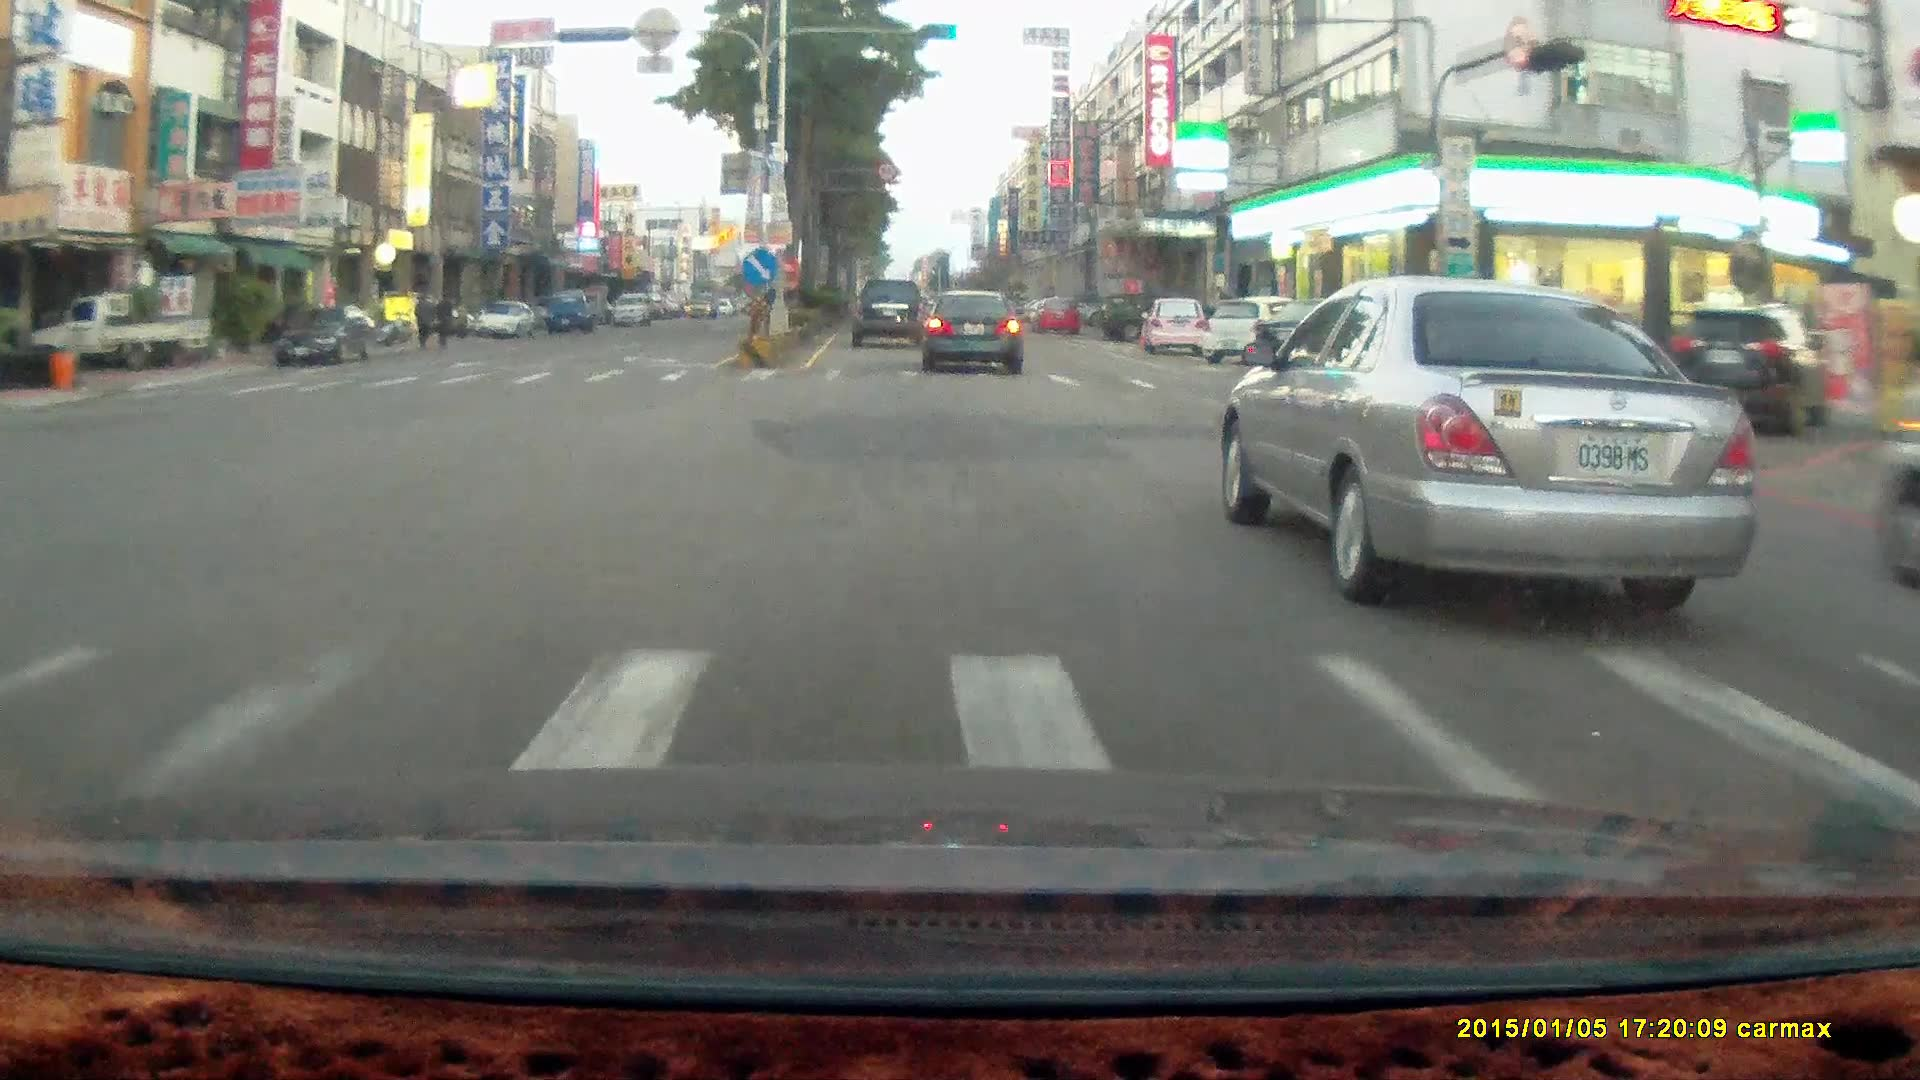pedestrian: (432, 284, 458, 350), (411, 289, 434, 351), (412, 290, 432, 353), (432, 289, 454, 350)
vehicle: (1226, 285, 1762, 603), (1672, 304, 1829, 437), (29, 293, 211, 373), (44, 295, 204, 381), (1258, 299, 1393, 382), (1252, 295, 1387, 372), (1873, 395, 1920, 593), (923, 293, 1026, 378), (922, 289, 1021, 373), (1200, 296, 1312, 365), (270, 307, 381, 372), (273, 307, 375, 366), (852, 279, 930, 353), (850, 279, 927, 349), (1141, 299, 1212, 361), (1140, 297, 1209, 358), (1101, 293, 1177, 344), (473, 301, 538, 342), (543, 294, 596, 337), (473, 304, 535, 341), (544, 288, 590, 334), (1033, 293, 1079, 331), (610, 291, 652, 325)
